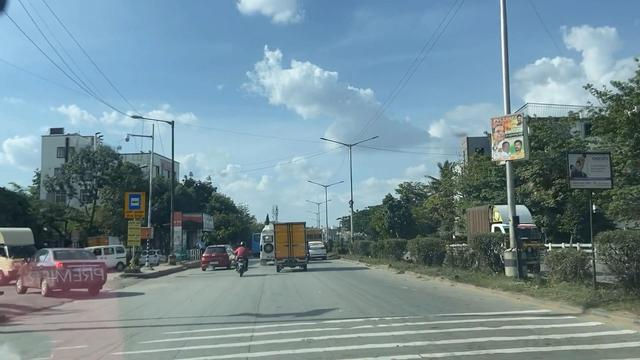HMV: (268, 224, 311, 267)
LMV: (15, 321, 633, 358), (13, 249, 110, 293), (185, 240, 232, 269), (232, 239, 248, 281)
